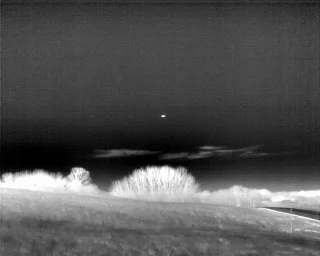AIRPLANE: (159, 112, 167, 119)
